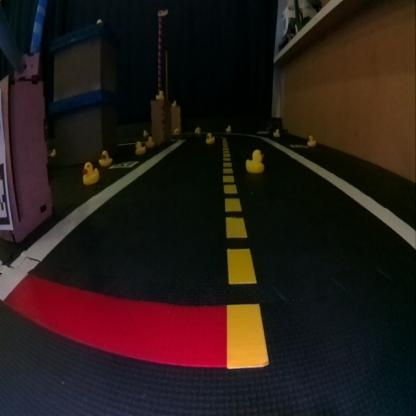Duckie: (245, 148, 264, 173), (81, 162, 99, 184), (99, 150, 112, 165), (134, 140, 144, 154), (205, 132, 214, 143), (145, 136, 154, 147), (155, 89, 163, 99), (306, 134, 312, 146), (272, 128, 279, 136), (173, 127, 179, 136), (194, 126, 200, 134), (50, 148, 56, 155), (170, 100, 176, 106), (226, 125, 231, 132), (143, 129, 148, 136)
QR code: (0, 161, 11, 228), (109, 160, 138, 168), (289, 143, 306, 150)
